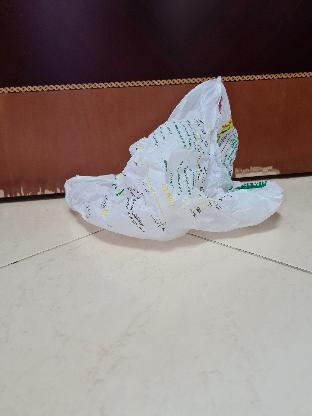Plastic Bag: (66, 79, 282, 239)
